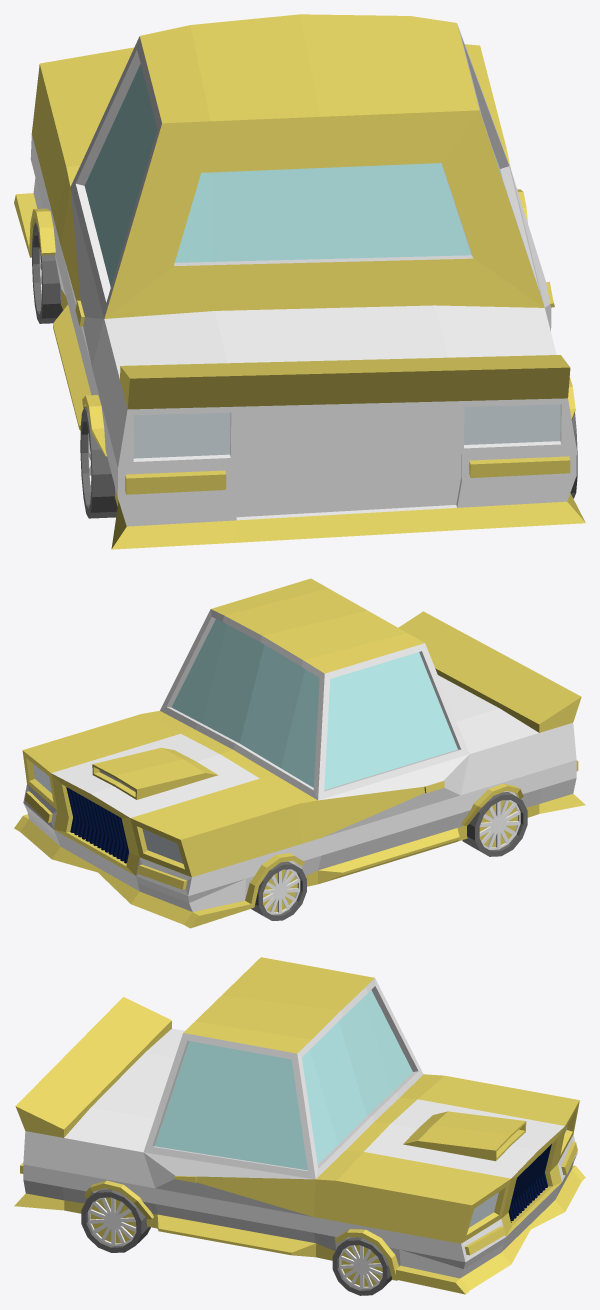
Rendered from car3.gltf.
3 renders of one model, top to bottom at view 1: azimuth 30°, elevation 25°; view 2: azimuth 150°, elevation 25°; view 3: azimuth 270°, elevation 25°, orthographic. The views are drawn at different scales.
Parts seen in each view (by area): view 1: body, backlight, wheel.1, wheel1.1, front_fender, rear_fender; view 2: body, wheel.1, lattice.1, wheel1.1, headlight, front_fender, rear_fender; view 3: body, wheel.1, wheel1.1, lattice.1, front_fender, rear_fender, headlight.
Part boxes in pixels (x1,y1,x2,y2): body: [14, 14, 585, 549]; backlight: [133, 404, 560, 458]; wheel.1: [80, 407, 577, 518]; wheel1.1: [32, 222, 63, 323]; front_fender: [29, 189, 527, 257]; rear_fender: [82, 377, 575, 456]; body: [14, 578, 585, 928]; wheel.1: [462, 792, 527, 856]; lattice.1: [66, 787, 128, 863]; wheel1.1: [251, 861, 306, 920]; headlight: [33, 763, 183, 863]; front_fender: [245, 853, 304, 908]; rear_fender: [461, 783, 523, 825]; body: [14, 957, 585, 1294]; wheel.1: [81, 1189, 150, 1252]; wheel1.1: [332, 1237, 392, 1295]; lattice.1: [508, 1144, 551, 1222]; front_fender: [334, 1229, 398, 1280]; rear_fender: [83, 1180, 153, 1219]; headlight: [469, 1126, 567, 1227].
Size of the model in its own units: 2.16 by 1.11 by 2.64.
